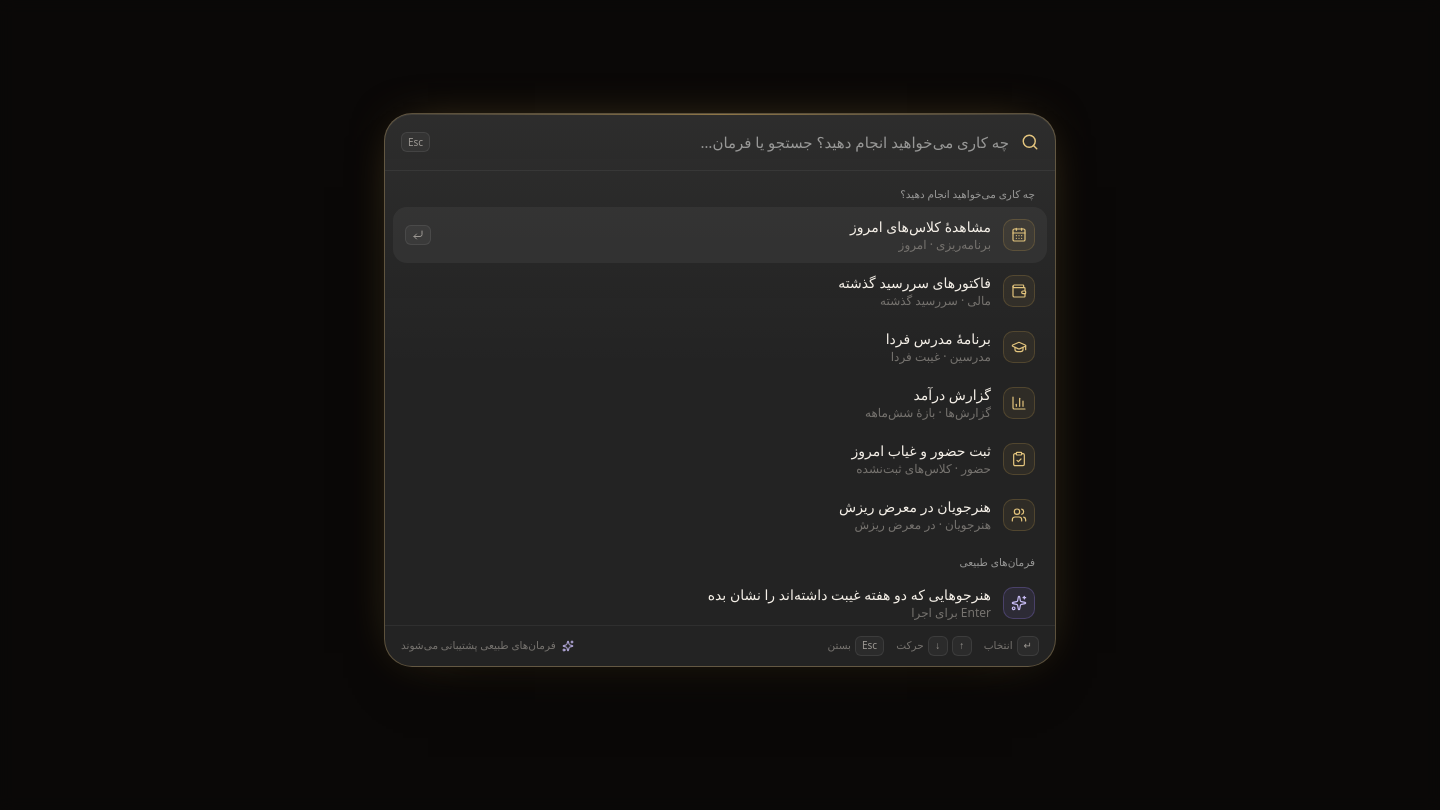
Scenario: I13 consumer gates — no stale rows, and no false empty, during a params change › CommandPalette: a search in flight is not «چیزی پیدا نشد»
Type "ژژژ" into the field with placeholder "چه کاری می‌خواهید انجام دهید؟ جستجو یا فرمان…" at coordinates (726, 142), box [442,114,1009,170]
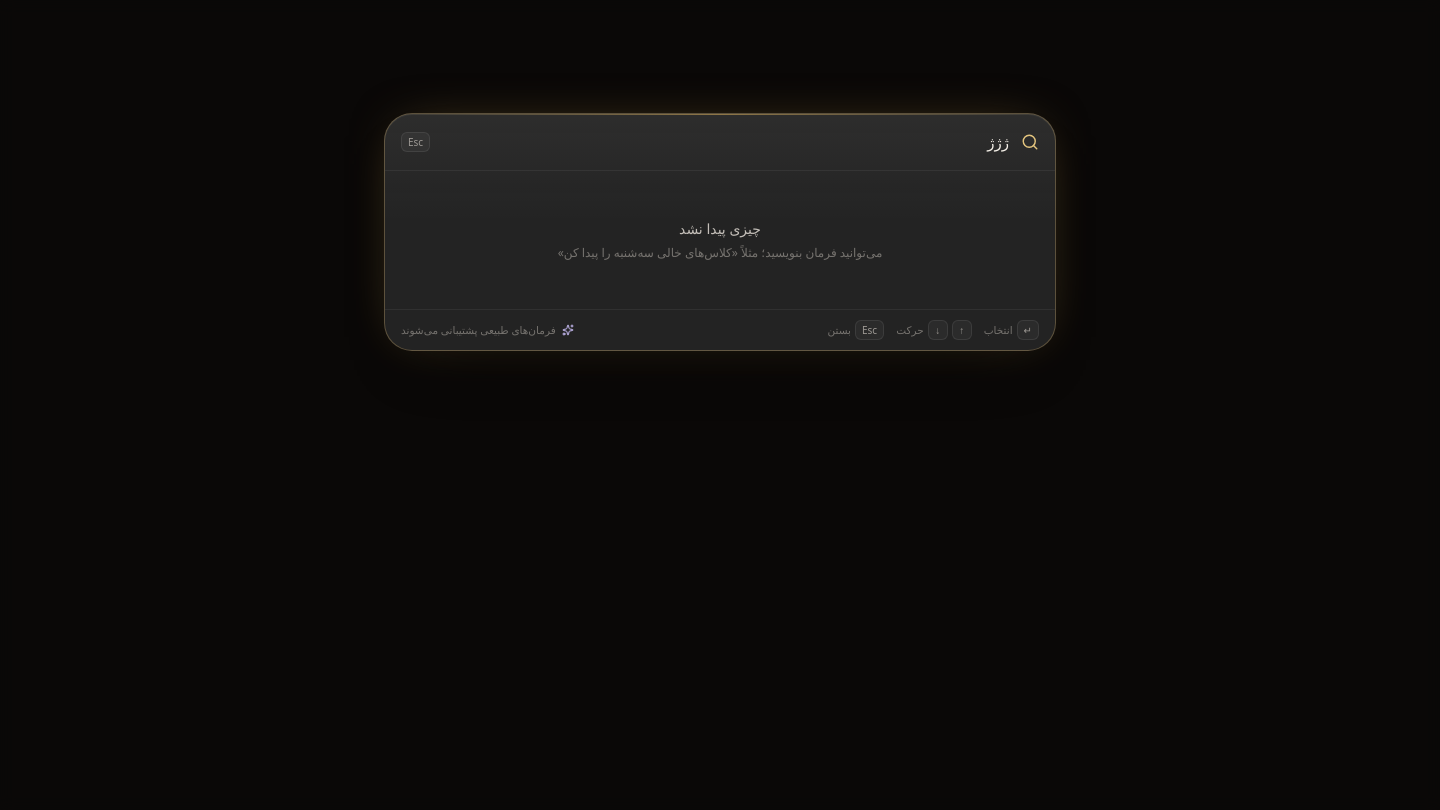
Result: the text "چیزی پیدا نشد" is shown at [679,219,761,238]
